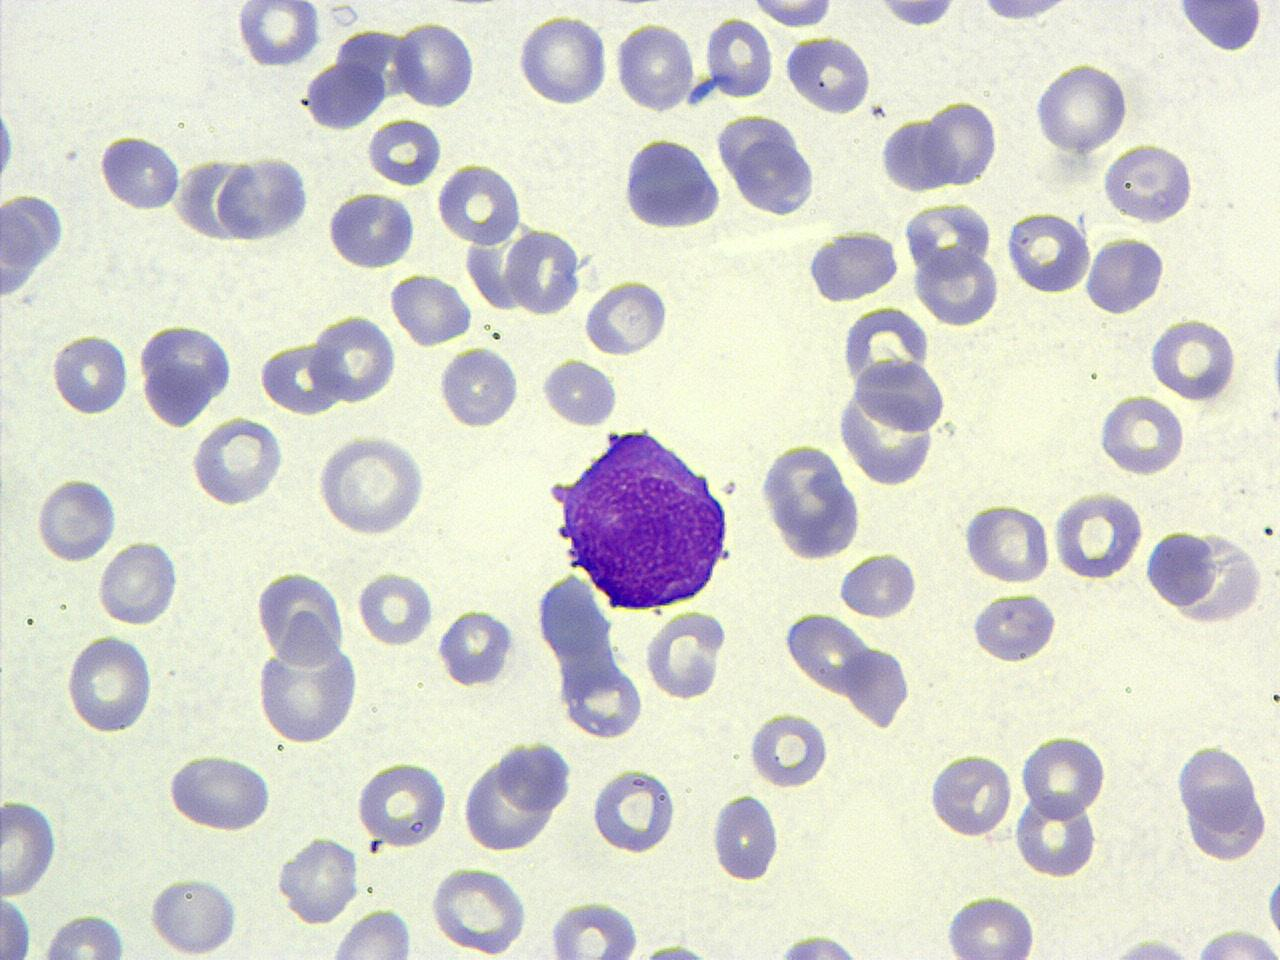Platelets: (965, 591, 1060, 664), (707, 794, 782, 884), (434, 608, 517, 688), (234, 2, 321, 68), (1172, 2, 1268, 55), (761, 933, 869, 960), (1100, 936, 1198, 960), (1266, 327, 1280, 425), (0, 103, 16, 188), (640, 940, 708, 960), (1265, 874, 1280, 940), (684, 78, 714, 110)
RBC: (878, 510, 1278, 958), (958, 0, 1279, 184), (834, 359, 947, 488), (253, 625, 362, 746), (313, 431, 429, 536), (135, 320, 234, 429), (1033, 59, 1131, 156), (428, 864, 531, 956), (63, 632, 154, 734), (256, 568, 347, 669), (514, 11, 608, 108), (165, 751, 274, 834), (189, 414, 285, 508), (1050, 487, 1146, 580), (352, 760, 447, 849), (309, 311, 397, 405), (1101, 140, 1197, 226), (146, 873, 245, 957), (1012, 788, 1100, 881), (274, 833, 362, 927), (1145, 316, 1239, 402), (589, 766, 678, 856), (642, 608, 728, 702), (1018, 732, 1109, 820), (959, 500, 1052, 586), (1097, 390, 1185, 478), (927, 749, 1014, 839), (323, 190, 417, 271), (436, 158, 524, 246), (782, 32, 874, 116), (535, 568, 615, 664), (95, 539, 181, 627), (436, 344, 523, 432), (503, 228, 588, 318), (901, 198, 993, 280), (394, 18, 476, 111), (614, 21, 694, 115), (33, 475, 119, 563), (785, 609, 870, 698), (1175, 740, 1259, 830), (706, 791, 782, 885), (1005, 210, 1091, 294), (50, 328, 129, 418), (966, 589, 1059, 665), (732, 137, 820, 217), (582, 276, 670, 356), (922, 97, 1000, 188), (96, 131, 182, 212), (562, 657, 648, 738), (912, 247, 1000, 326), (1084, 234, 1168, 316), (388, 269, 474, 349), (434, 607, 516, 689), (355, 568, 435, 650), (746, 709, 828, 790), (942, 890, 1038, 960), (1182, 788, 1268, 864), (258, 338, 342, 414), (703, 14, 774, 102), (1, 796, 59, 898), (538, 355, 621, 427), (836, 550, 919, 620), (235, 1, 321, 69), (879, 114, 951, 194), (546, 899, 640, 959), (366, 117, 442, 188), (328, 906, 413, 960), (36, 910, 131, 958), (970, 0, 1082, 27), (1191, 926, 1280, 960), (868, 0, 966, 30), (748, 0, 836, 30), (0, 894, 30, 958)
WBC: (246, 0, 1198, 334), (544, 416, 740, 616), (834, 335, 956, 484), (459, 736, 577, 852), (756, 439, 866, 563), (254, 626, 364, 744), (1141, 525, 1267, 628), (136, 319, 231, 430), (620, 133, 726, 230), (213, 154, 314, 244), (1099, 139, 1199, 227), (0, 185, 71, 306), (803, 226, 902, 306), (325, 190, 418, 272), (504, 225, 584, 319), (496, 738, 574, 816), (302, 61, 385, 132), (878, 115, 949, 194), (1174, 3, 1268, 56), (741, 929, 901, 959)
